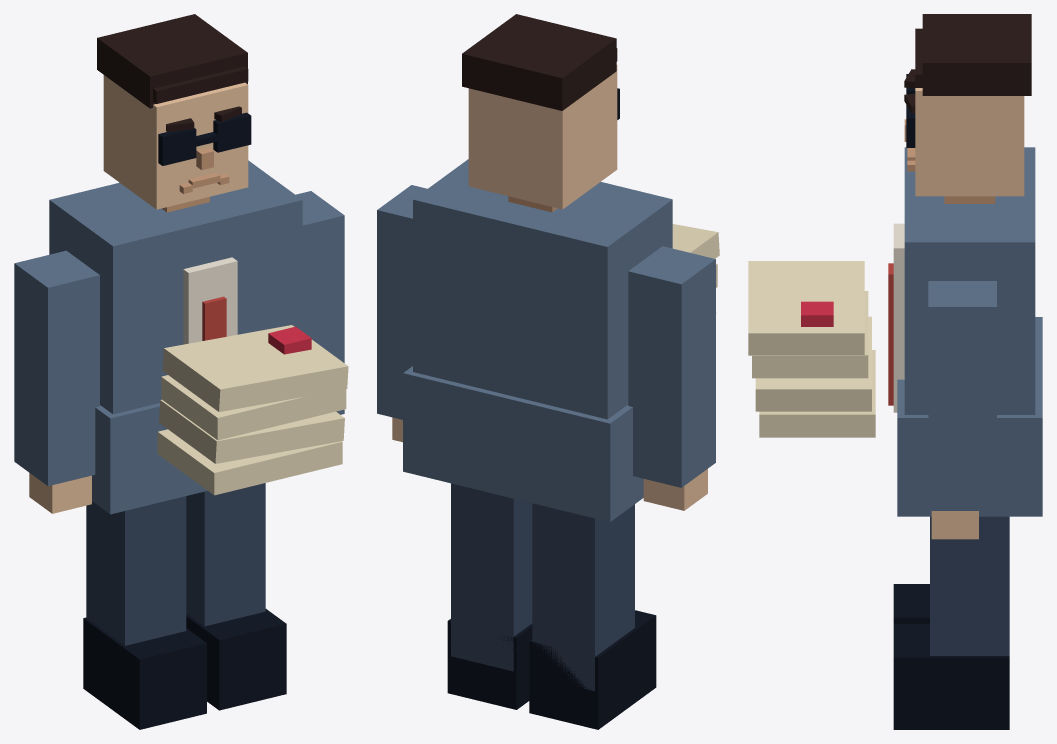
Rendered from npc_boris.glb.
3 renders of one model, left to right at view 1: azimuth 30°, elevation 25°; view 2: azimuth 150°, elevation 25°; view 3: azimuth 270°, elevation 25°, orthographic. The views are drawn at different scales.
Parts seen in each view (by area): view 1: npc_boris; view 2: npc_boris; view 3: npc_boris.
Boxes of the visible parts, x1,y1,x2,y2 form: npc_boris: (14,14,348,729); npc_boris: (377,14,719,729); npc_boris: (748,14,1042,729).
Size of the model in its own units: 0.9701 by 1.99 by 0.81.
Materials: 1 (1 with a texture image).
